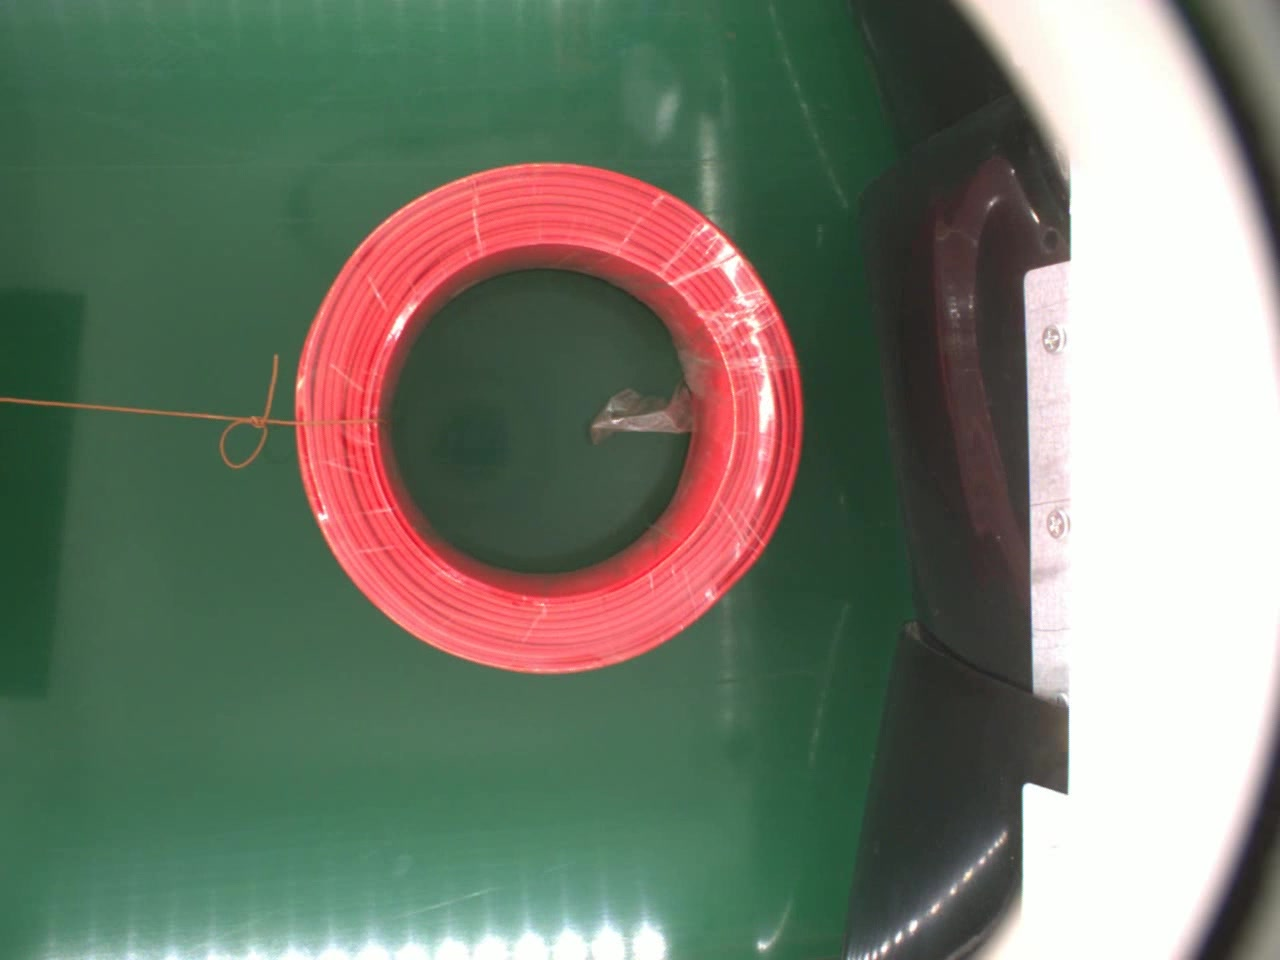red: (292, 157, 804, 680)
